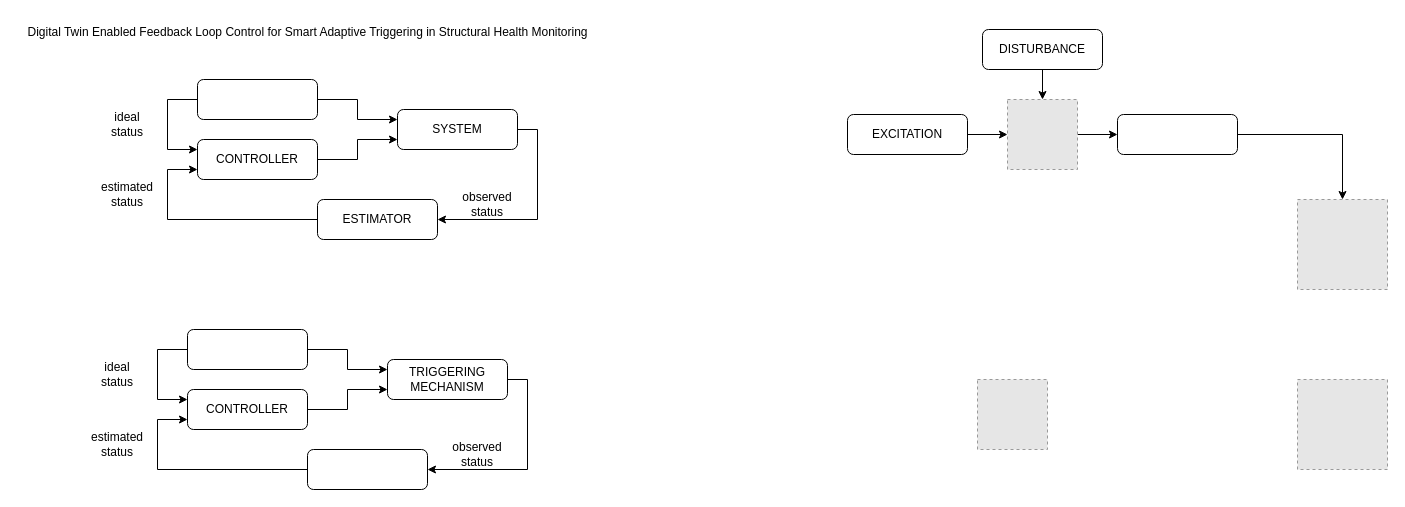
Image size: 1405x507. Some labels were removed from this diagram. Grey dashed boxes stand in for pictures. The centre of each missing label's shape, as x and y in pixels:
"ENV & STRUCTURE" goes at (x=247, y=349).
"ENVIRONMENT" goes at (x=257, y=99).
"EVALUATOR" goes at (x=367, y=469).
"RESPONSE" goes at (x=1177, y=134).
